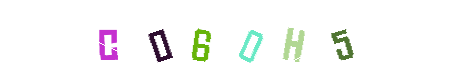0: (210, 0, 290, 80)
5: (237, 0, 317, 80)
6: (195, 0, 275, 80)
C: (68, 0, 148, 80)
H: (227, 0, 307, 80)
O: (120, 0, 200, 80)
